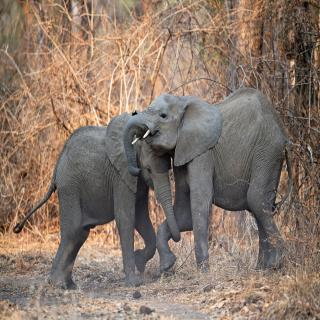Elephant: (124, 85, 296, 276), (8, 118, 181, 291)
